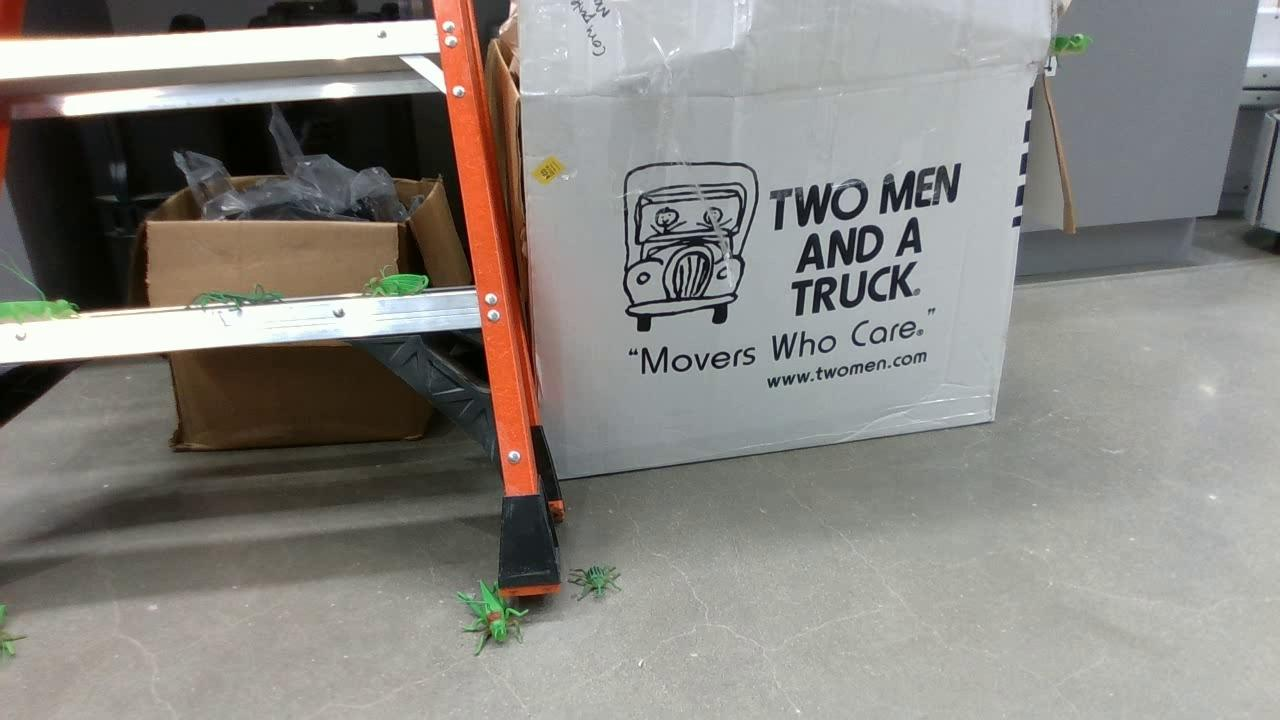grasshopper: (456, 580, 529, 642), (1, 293, 84, 323), (360, 271, 433, 299), (1, 598, 24, 666)
